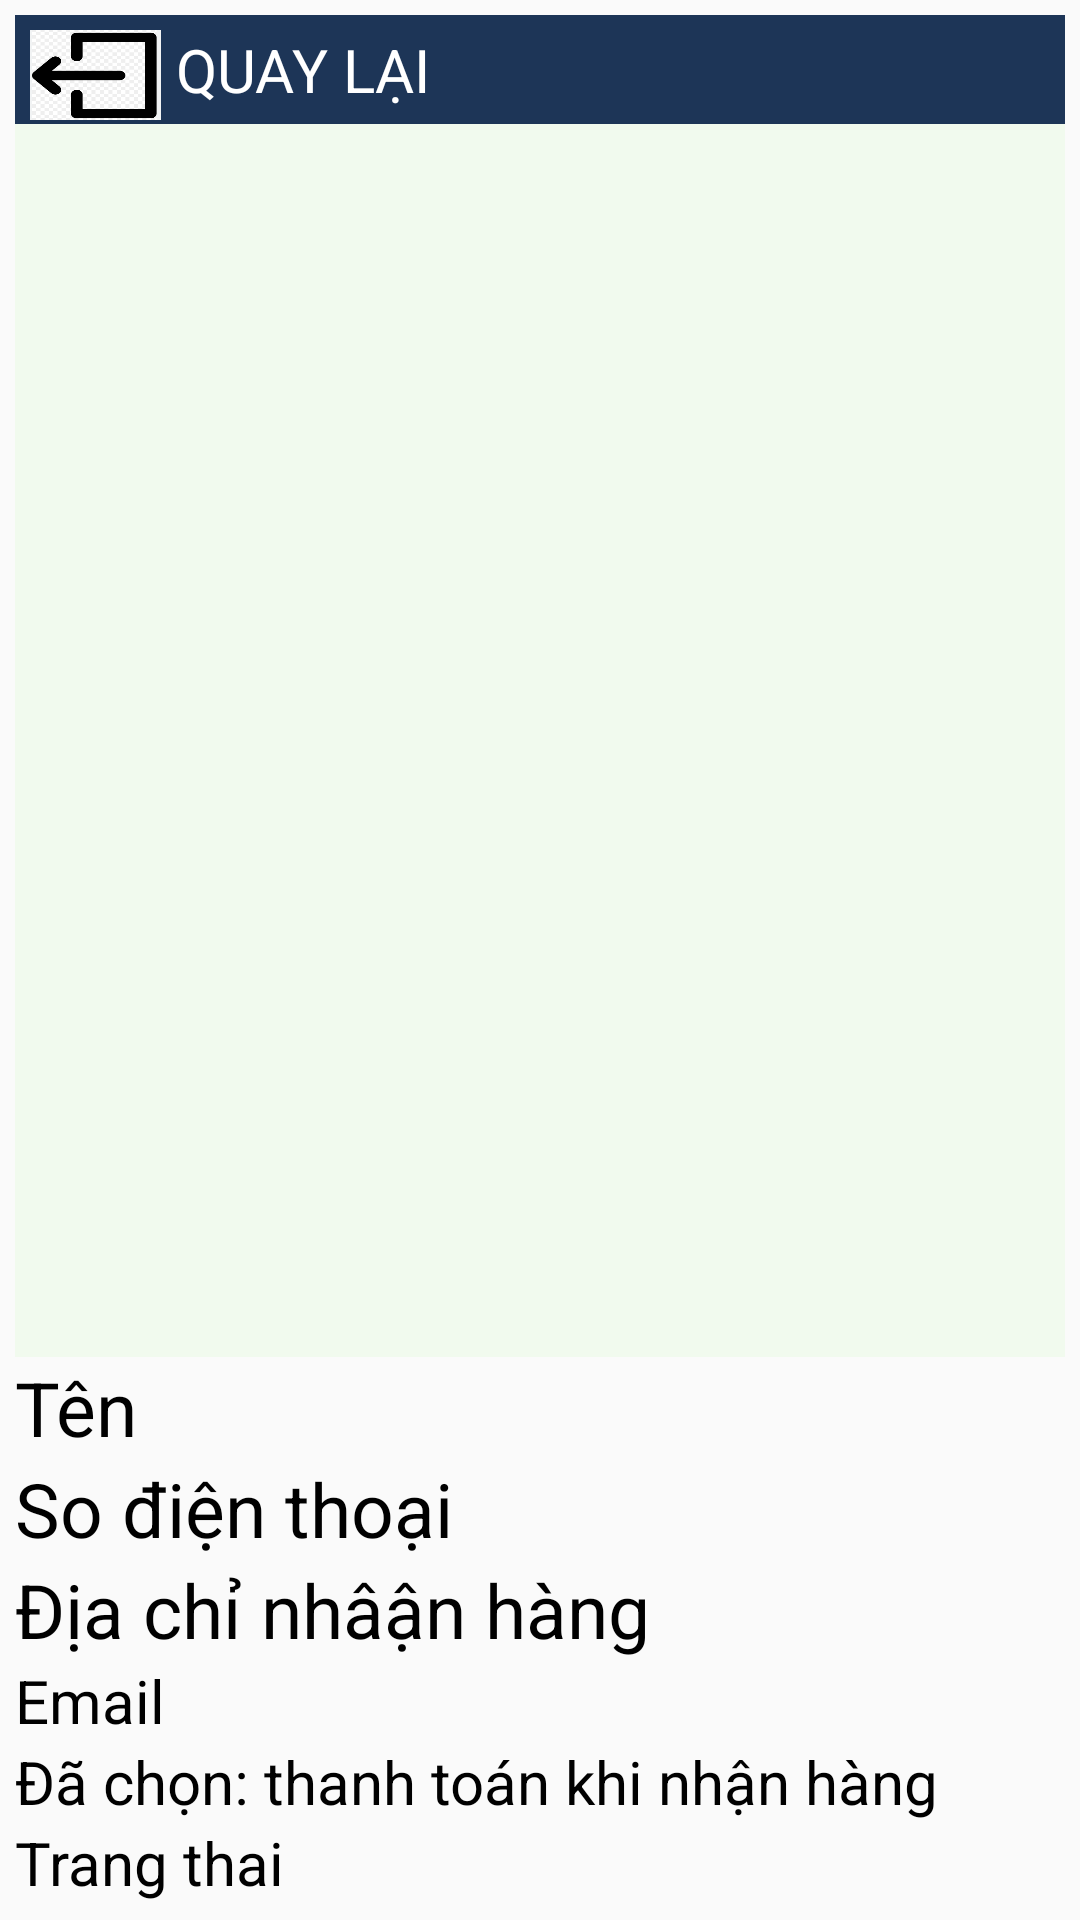

Where to tap for icons on this 1080px×1920px app screen, as [x,y]:
iconexit: [95,69]
